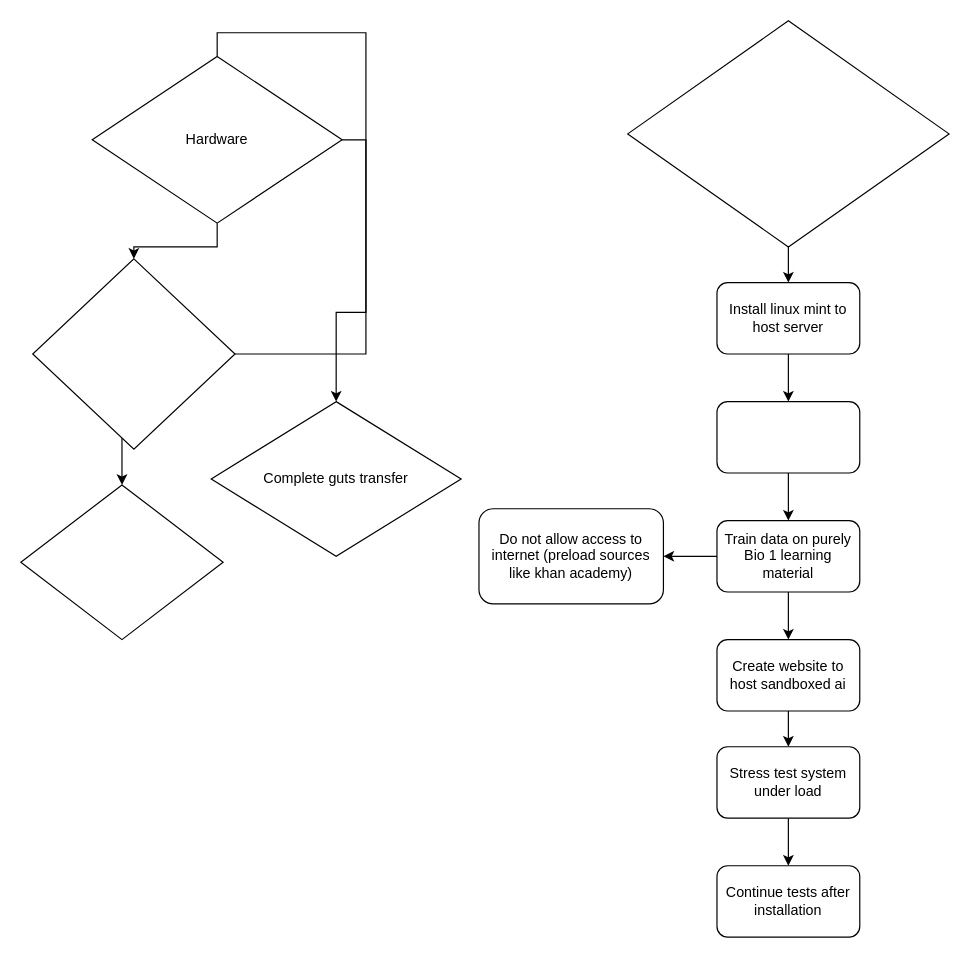
Image size: 970x958. Some labels were removed from this diagram. Each missing label, with the box of its shape:
GPU (3070ti temp) Order 3050TI minimum: (20, 484, 223, 640)
Install local LLM (gpt4all @ github?): (716, 400, 860, 473)
Power Supply: (32, 258, 235, 449)
Software: (627, 20, 949, 247)
